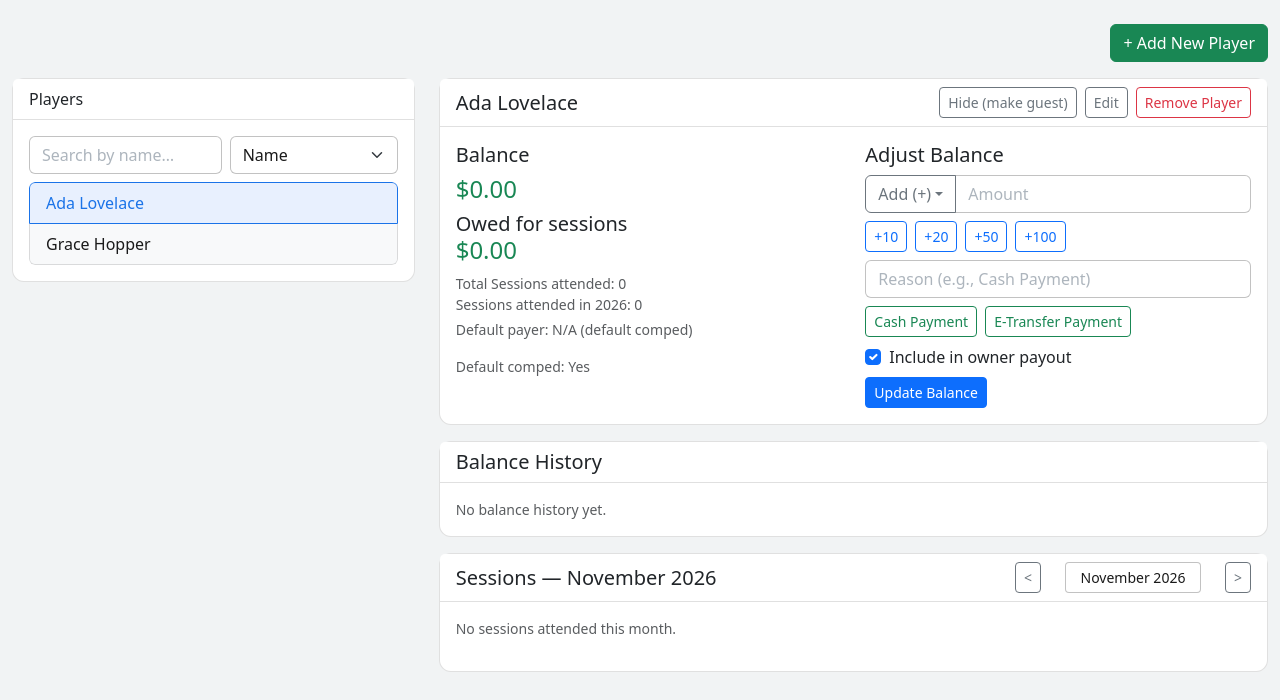
Test: PlayersPage › shows "Default comped: Yes" and disables re-selecting a default payer for a default-comped player
Expected: the text "No balance history yet." is shown, x1=456 y1=500 x2=606 y2=519
Expected: the text "Default comped: Yes" is shown, x1=456 y1=357 x2=590 y2=376
Click the button "Edit": (1106, 102) x1=1085 y1=87 x2=1128 y2=118
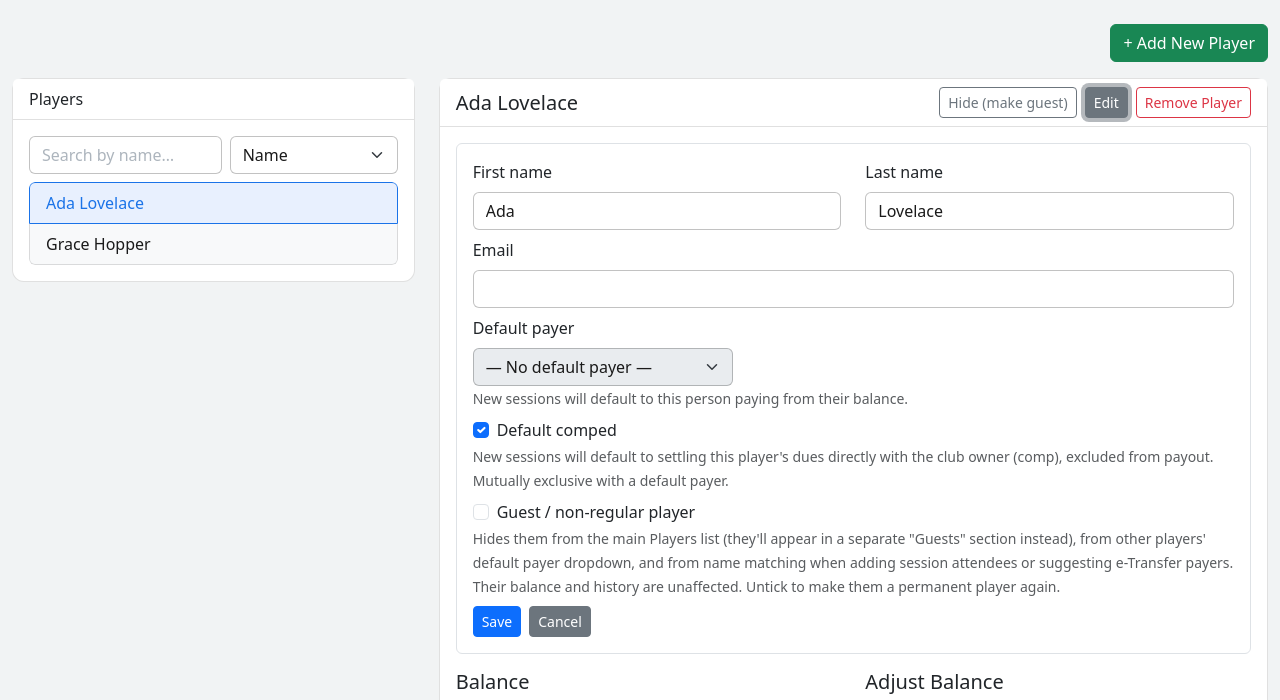
Expected: the checkbox labelled "Default comped" is checked, x1=473 y1=422 x2=489 y2=438
Expected: the dropdown labelled "Default payer" is disabled, x1=473 y1=348 x2=733 y2=386
